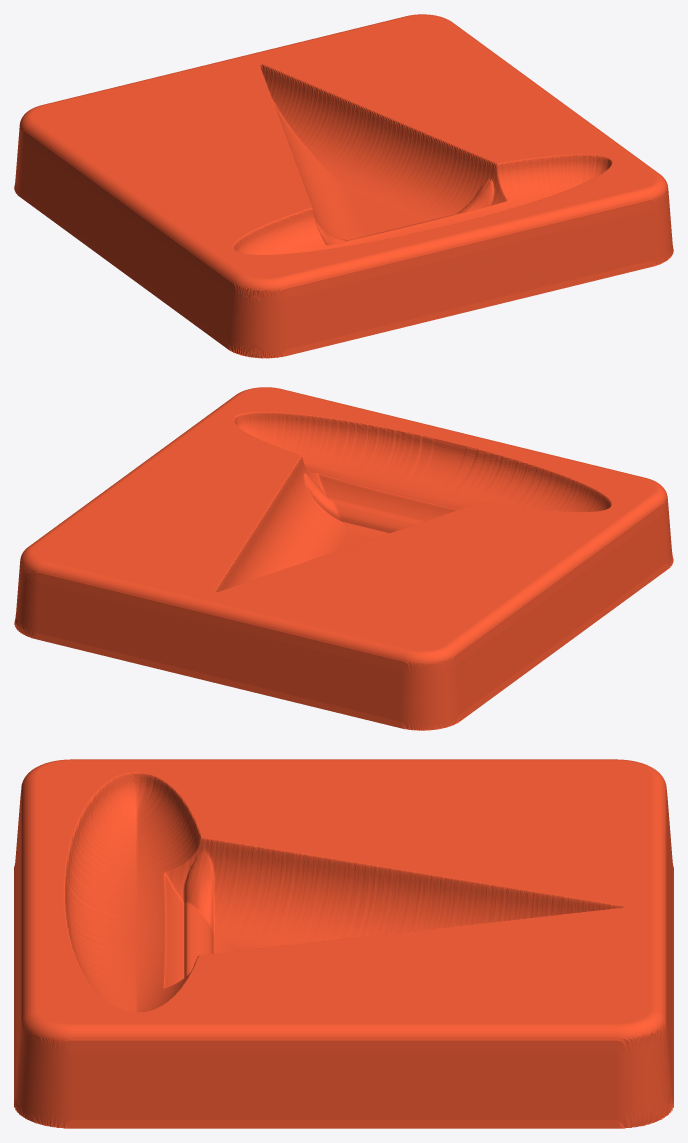
Rendered from mold.glb.
3 renders of one model, top to bottom at view 1: azimuth 30°, elevation 25°; view 2: azimuth 150°, elevation 25°; view 3: azimuth 270°, elevation 25°, orthographic. The views are drawn at different scales.
Visible parts, largest first — view 1: geometry_0; view 2: geometry_0; view 3: geometry_0.
Boxes of the visible parts, <box> form: geometry_0: <box>14,14,673,358</box>; geometry_0: <box>14,387,673,730</box>; geometry_0: <box>14,759,673,1128</box>.
Bounding box in the file's own units: 0.105 × 0.0165 × 0.1038.
